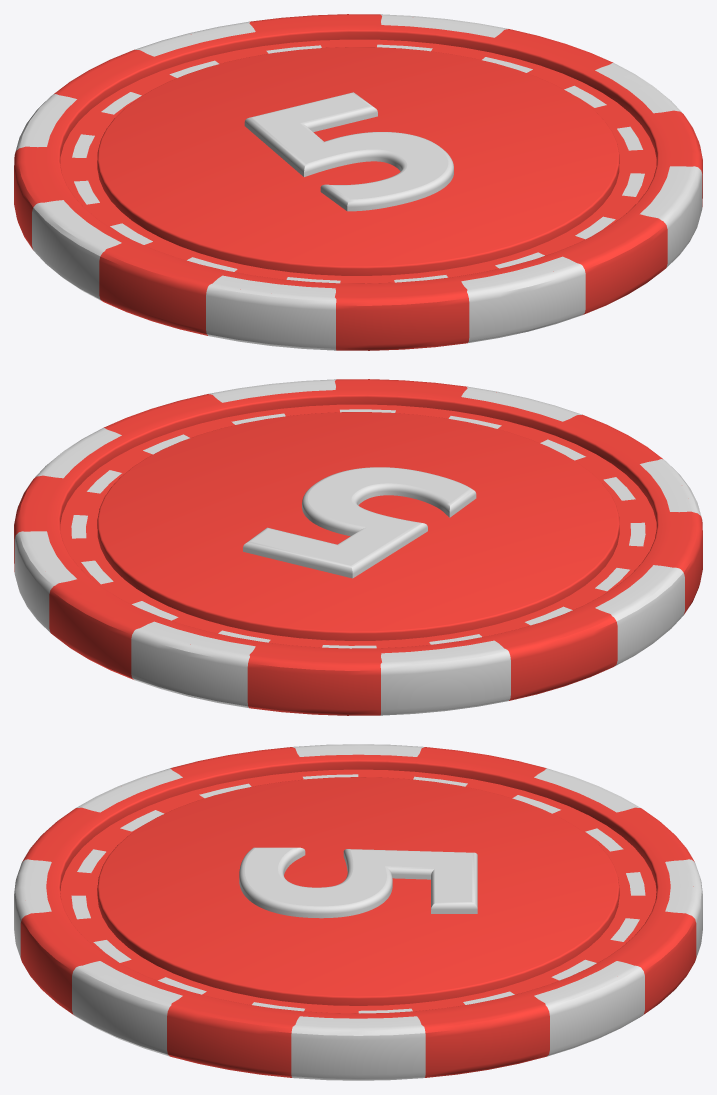
File: poker_chip_5.glb
The picture shows the model from 3 angles, top to bottom: view 1: azimuth 30°, elevation 25°; view 2: azimuth 150°, elevation 25°; view 3: azimuth 270°, elevation 25°; orthographic projection.
Parts seen in each view (by area): view 1: Chip_0; view 2: Chip_0; view 3: Chip_0.
Part boxes in pixels (left/top/right/bottom): Chip_0: left=14, top=14, right=702, bottom=350; Chip_0: left=14, top=379, right=702, bottom=715; Chip_0: left=14, top=744, right=702, bottom=1080.
Size of the model in its own units: 0.0802 by 0.00911 by 0.0802.
